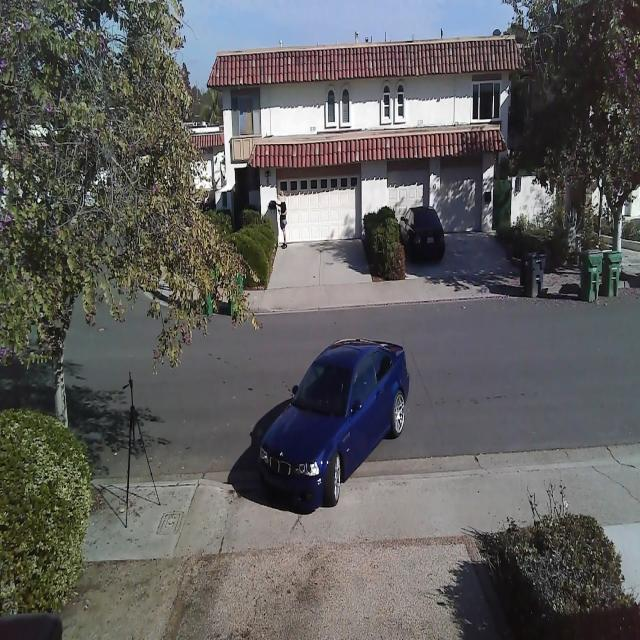Carbeetle: (245, 331, 410, 527)
Civilian: (399, 205, 445, 263)
